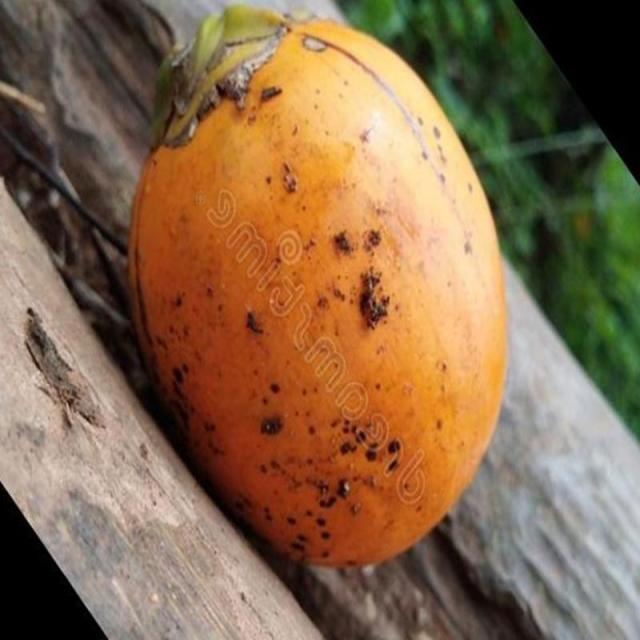good: (123, 4, 513, 575)
